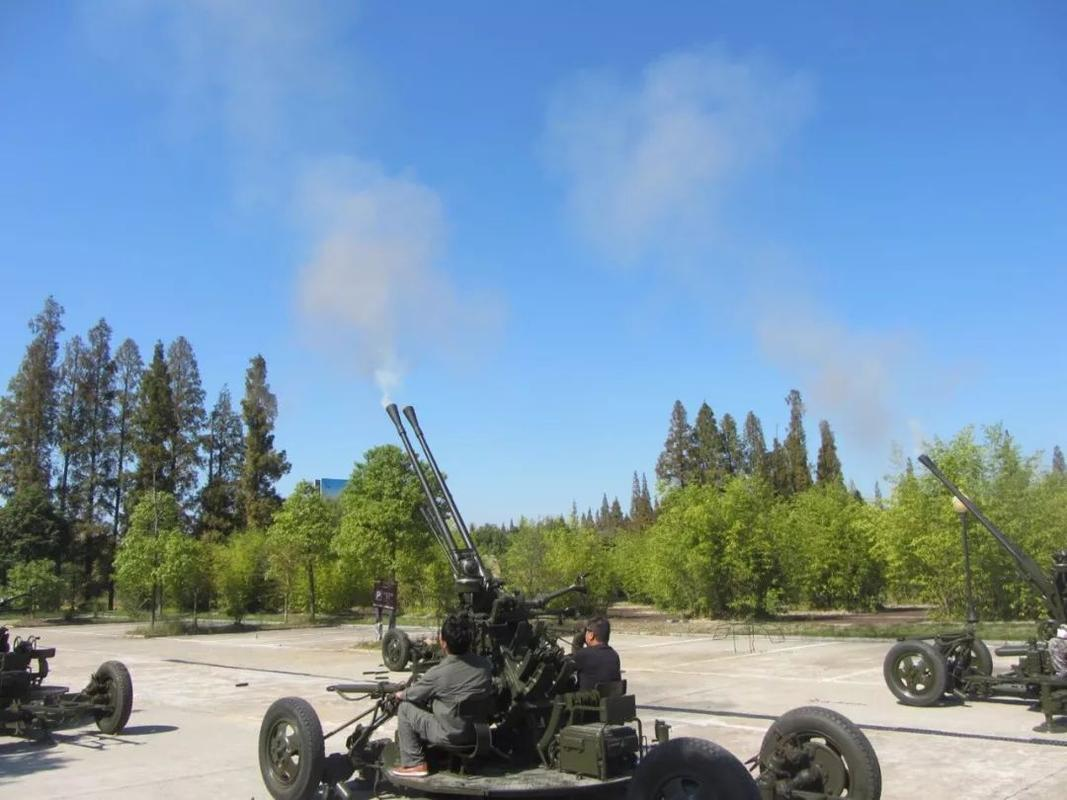MIL_SPG: (258, 404, 882, 797), (884, 454, 1067, 728)
